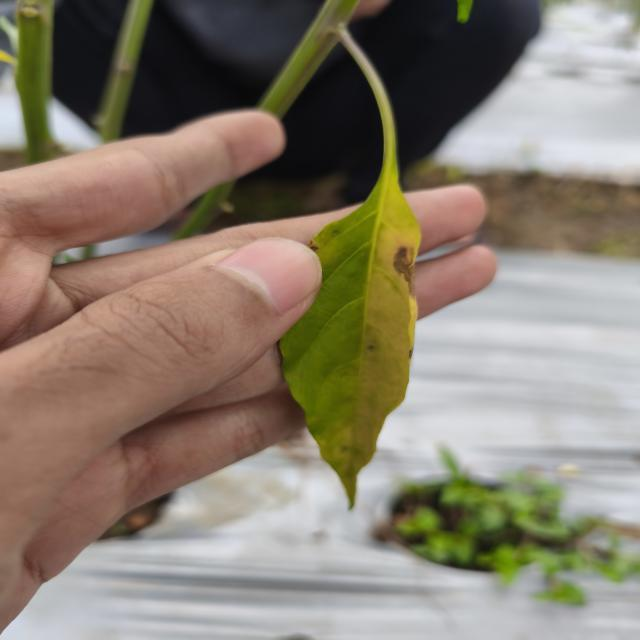Virus Kuning: (274, 167, 422, 509)
